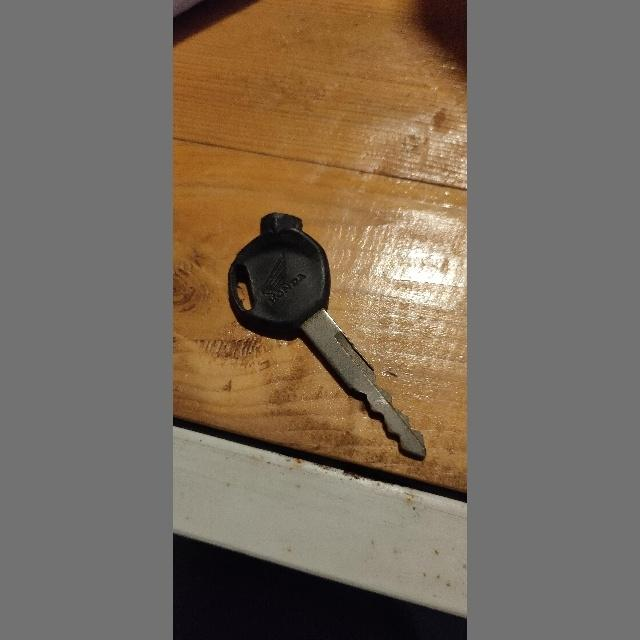Keys: (216, 198, 432, 467)
